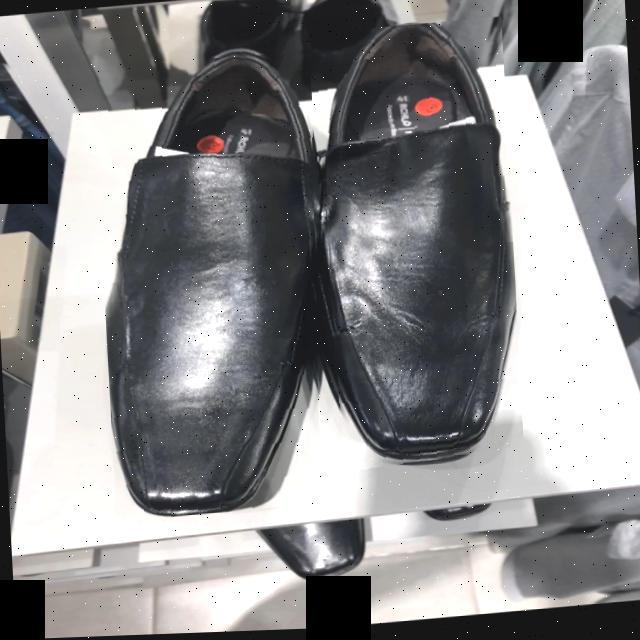shoe: (105, 58, 315, 518), (323, 27, 517, 466)
